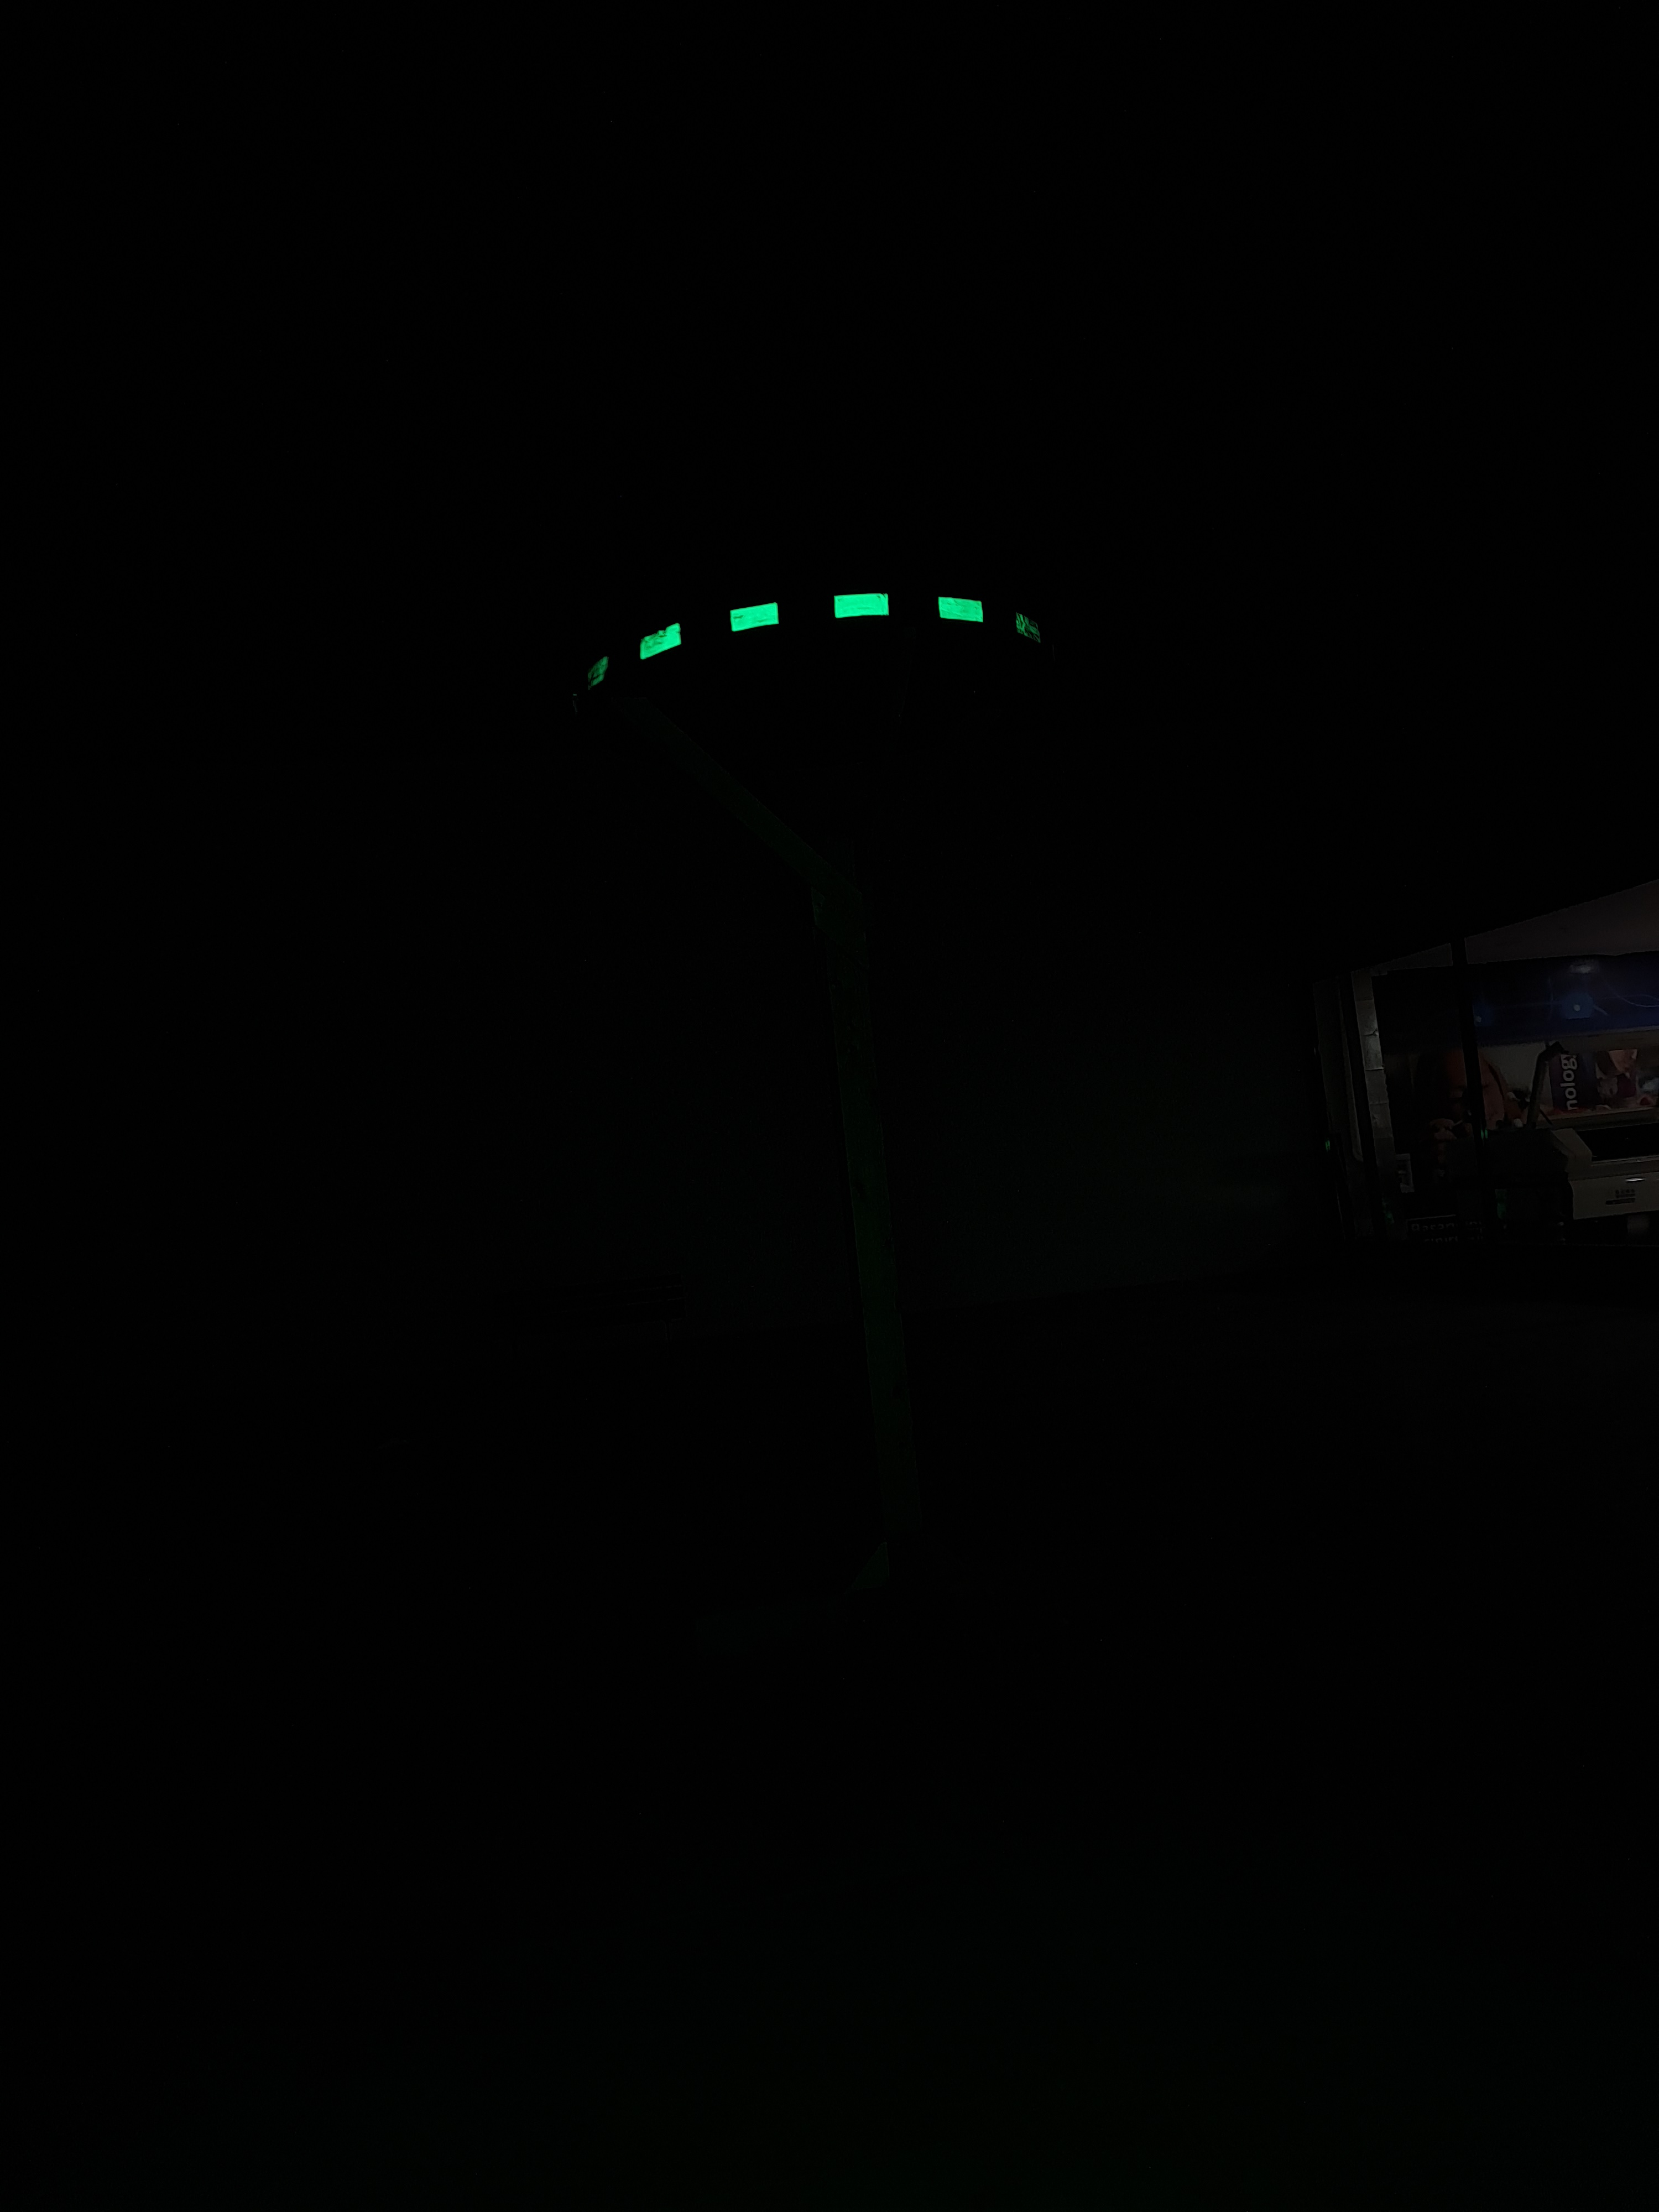hoop: (544, 583, 1087, 698)
